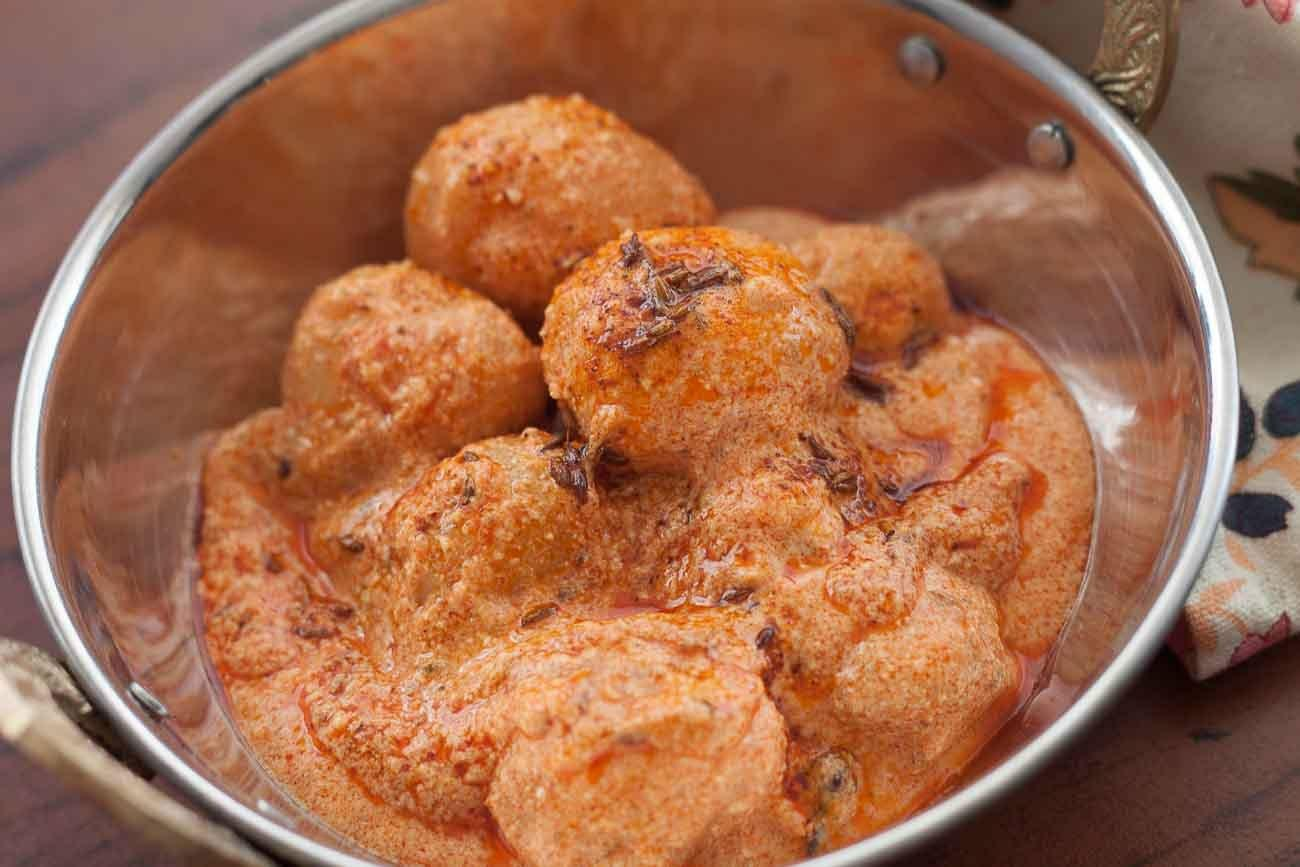DumAloo: (181, 84, 1104, 867)
